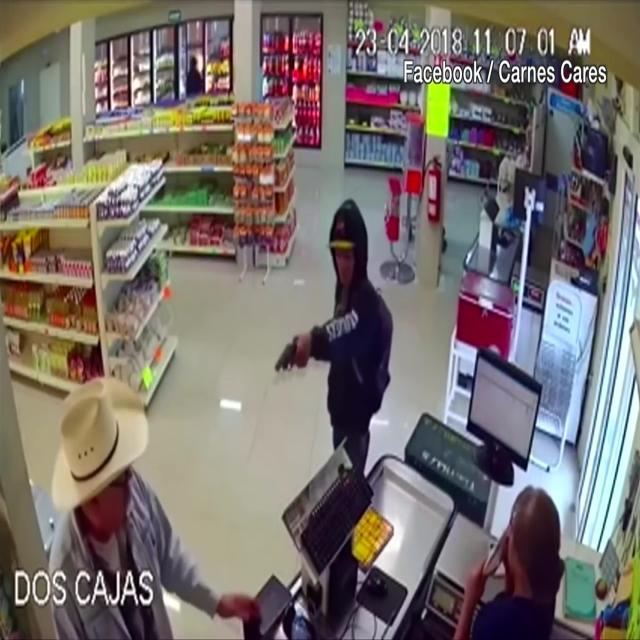Weapon: (268, 315, 323, 418)
